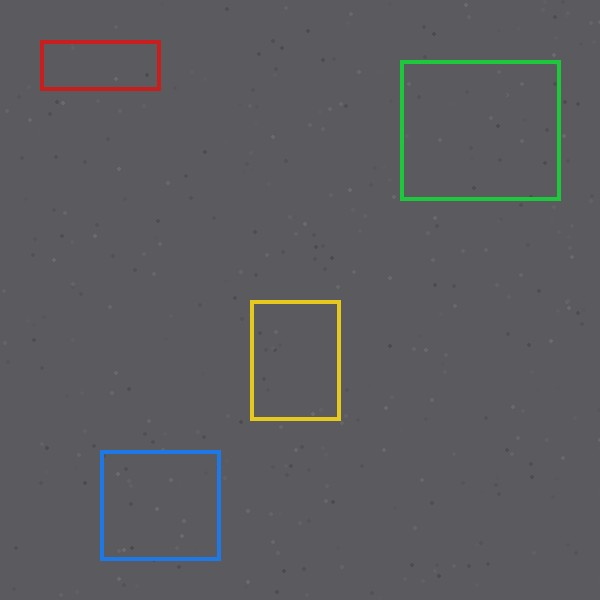D00: (40, 40, 160, 90)
D10: (250, 300, 340, 420)
D20: (400, 60, 560, 200)
D40: (100, 450, 220, 560)
